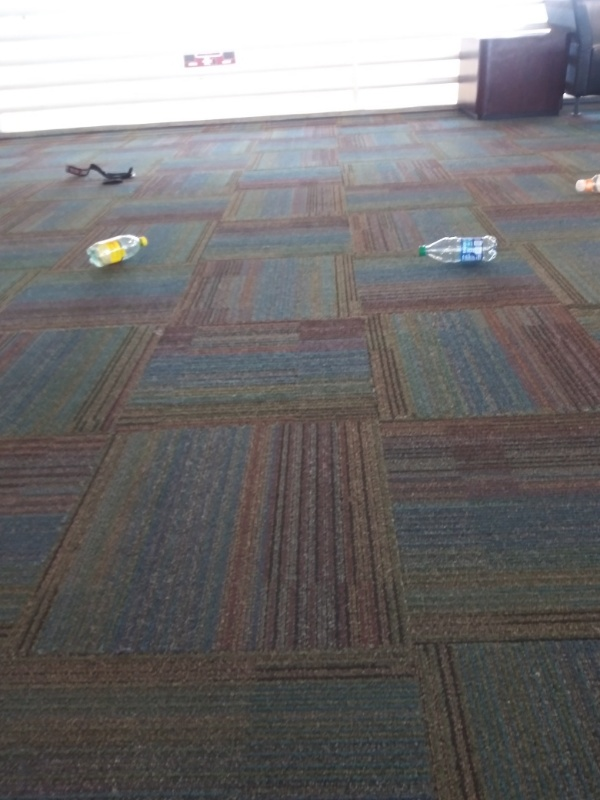bottle: (412, 233, 503, 264), (82, 232, 155, 268), (569, 169, 600, 202)
